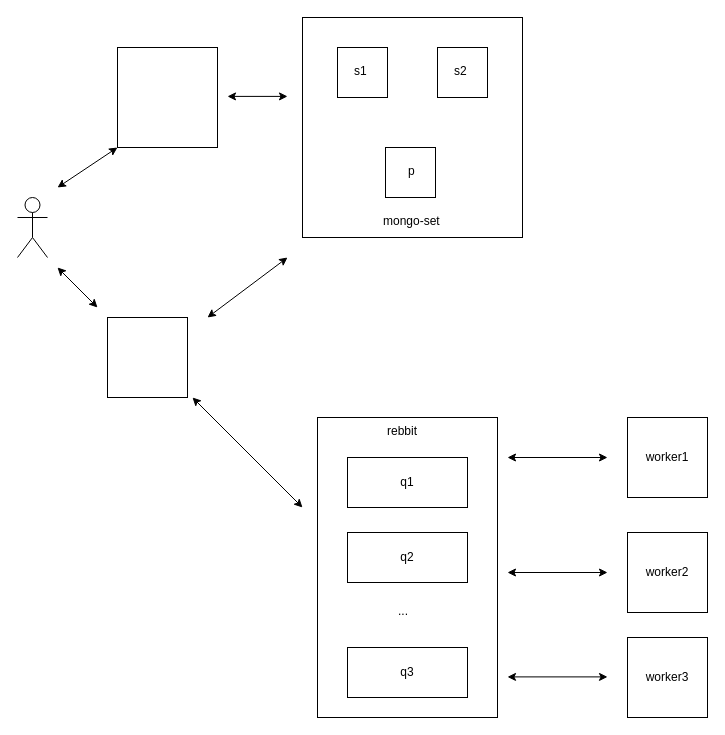
The diagram is 725 pixels wide and 735 high, and some of its shapes have lost their labels. Each missing label, with the centre of its shape:
"Manager" belongs at (x=147, y=357).
"Mongo-express" belongs at (x=167, y=97).
